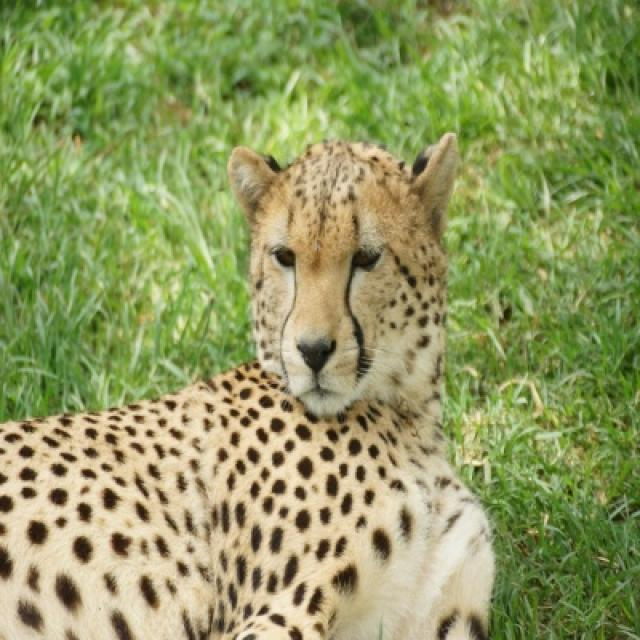Cheetah: (0, 136, 493, 638)
